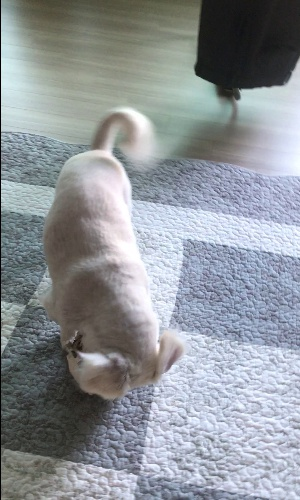ddubi: (36, 105, 190, 401)
